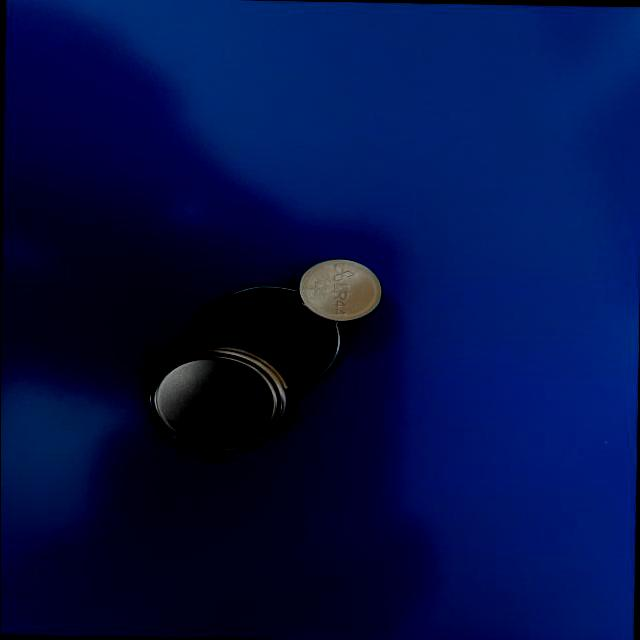COIN: (145, 342, 293, 452), (196, 282, 346, 390), (295, 255, 386, 321)
